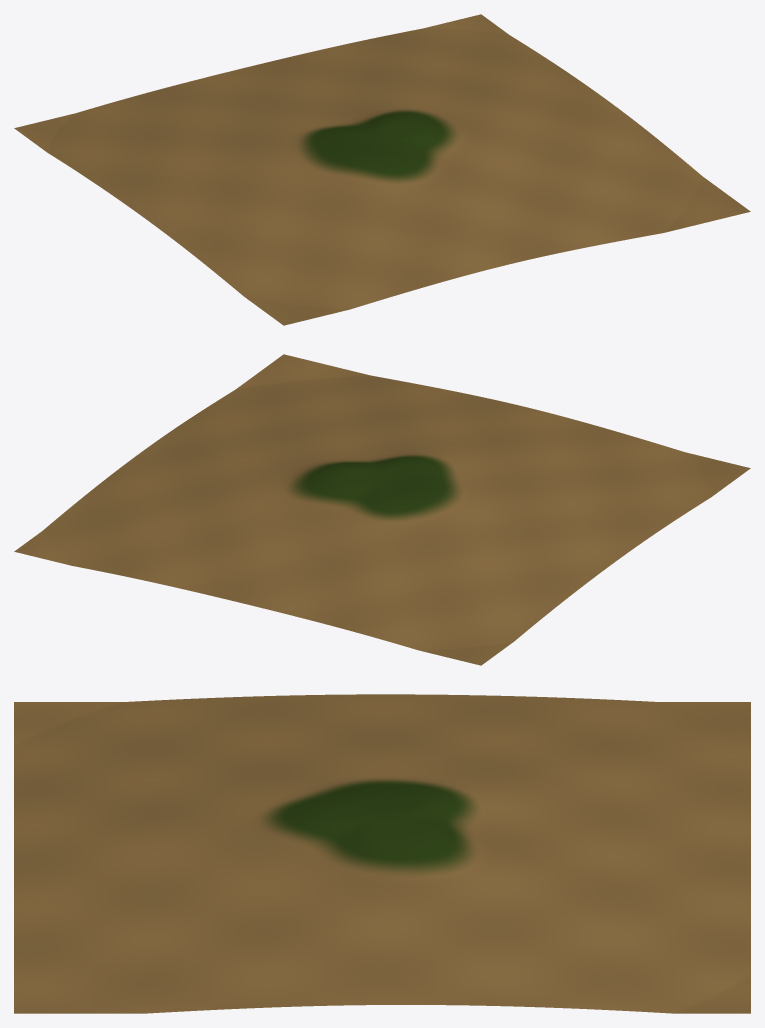
Rendered from SM_ShorelineIsland.fbx.
The picture shows the model from 3 angles, top to bottom: view 1: azimuth 30°, elevation 25°; view 2: azimuth 150°, elevation 25°; view 3: azimuth 270°, elevation 25°; orthographic projection. The views are drawn at different scales.
Visible parts, largest first — view 1: SM_ShorelineIsland; view 2: SM_ShorelineIsland; view 3: SM_ShorelineIsland.
Boxes of the visible parts, x1,y1,x2,y2 form: SM_ShorelineIsland: (14, 14, 750, 325); SM_ShorelineIsland: (14, 354, 750, 665); SM_ShorelineIsland: (14, 694, 750, 1013).
Size of the model in its own units: 8192 by 8192 by 528.
